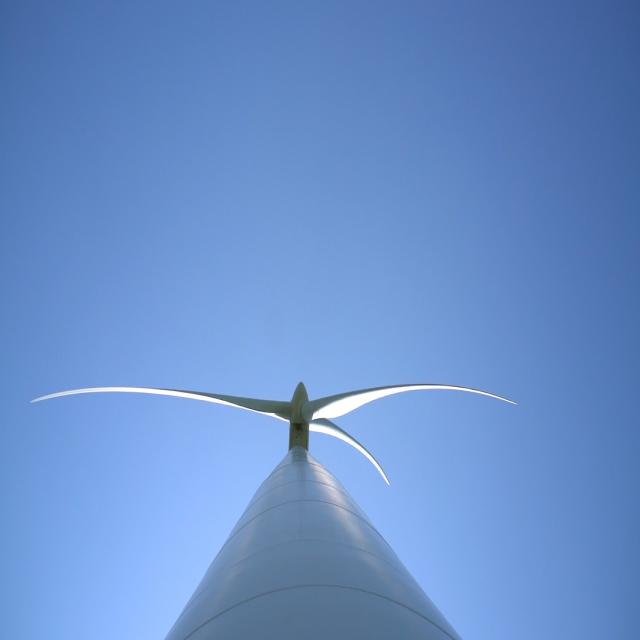blade 1: (349, 430, 395, 486)
blade 2: (14, 358, 268, 432)
blade 3: (326, 369, 555, 415)
